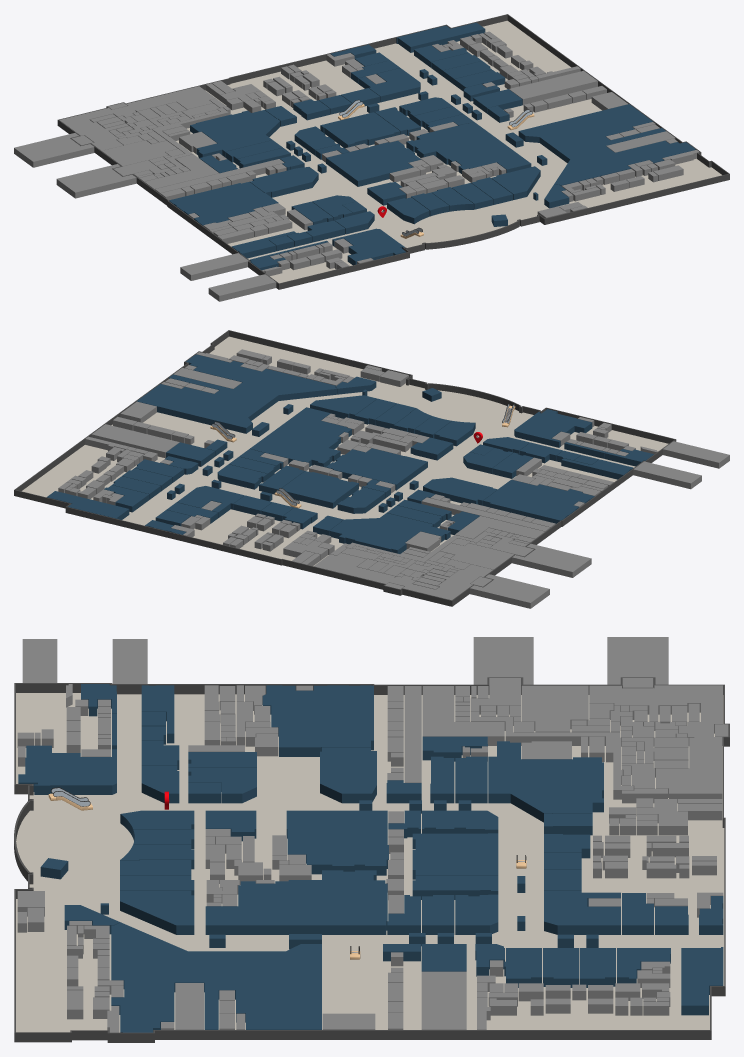
File: first_floor1.gltf
3 views of the same model, one above another, from view 1: azimuth 30°, elevation 25°; view 2: azimuth 150°, elevation 25°; view 3: azimuth 270°, elevation 25° (orthographic). The views are drawn at different scales.
Visible parts, largest first — view 1: ff_ground, ff_frame, ff_g-35-36-37.001, ff_tr_b.043, ff_g-10.001, ff_tr_g.002, ff_tr_g.001, ff_tr_d.031, ff_g-17.001, ff_g-27.001, ff_tr_b.039, ff_tr_g.003 (+49 smaller); view 2: ff_ground, ff_frame, ff_g-35-36-37.001, ff_g-10.001, ff_tr_b.043, ff_tr_g.002, ff_tr_g.001, ff_tr_d.031, ff_g-17.001, ff_tr_b.039, ff_tr_g.003, ff_tr_g.004 (+54 smaller); view 3: ff_ground, ff_g-35-36-37.001, ff_frame, ff_tr_b.043, ff_g-10.001, ff_g-17.001, ff_tr_b.039, ff_tr_g.002, ff_tr_d.031, ff_g-40.001, ff_tr_g.001, ff_tr_g (+69 smaller).
Part boxes in pixels (<box>): ff_ground: <box>176,20,721,283</box>; ff_frame: <box>57,14,729,289</box>; ff_g-35-36-37.001: <box>518,104,695,186</box>; ff_tr_b.043: <box>59,86,215,150</box>; ff_g-10.001: <box>169,182,278,225</box>; ff_tr_g.002: <box>14,133,94,167</box>; ff_tr_g.001: <box>56,164,136,198</box>; ff_tr_d.031: <box>509,70,597,105</box>; ff_g-17.001: <box>196,121,280,157</box>; ff_g-27.001: <box>396,22,485,52</box>; ff_tr_b.039: <box>102,140,177,166</box>; ff_tr_g.003: <box>180,253,248,280</box>; ff_ground: <box>22,336,668,566</box>; ff_frame: <box>14,330,676,606</box>; ff_g-35-36-37.001: <box>136,354,336,433</box>; ff_g-10.001: <box>483,479,594,523</box>; ff_tr_b.043: <box>313,553,492,600</box>; ff_tr_g.002: <box>470,574,549,608</box>; ff_tr_g.001: <box>512,543,591,577</box>; ff_tr_d.031: <box>91,424,179,458</box>; ff_g-17.001: <box>345,513,450,541</box>; ff_tr_b.039: <box>440,543,513,569</box>; ff_tr_g.003: <box>633,461,701,489</box>; ff_tr_g.004: <box>663,441,729,468</box>; ff_ground: <box>16,693,724,1032</box>; ff_g-35-36-37.001: <box>111,922,321,1032</box>; ff_frame: <box>14,677,729,1042</box>; ff_tr_b.043: <box>589,685,722,803</box>; ff_g-10.001: <box>262,685,373,756</box>; ff_g-17.001: <box>488,741,543,822</box>; ff_tr_b.039: <box>521,685,588,732</box>; ff_tr_g.002: <box>607,637,668,684</box>; ff_tr_d.031: <box>421,971,466,1029</box>; ff_g-40.001: <box>120,890,194,934</box>; ff_tr_g.001: <box>473,637,533,684</box>; ff_tr_g: <box>422,686,504,745</box>.
Size of the model in its own units: 3.58 by 0.0915 by 2.73.
